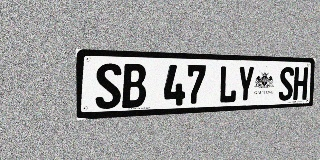4: (164, 64, 186, 106)
7: (185, 65, 206, 105)
B: (122, 64, 146, 108)
H: (293, 67, 308, 100)
L: (218, 66, 238, 104)
S: (95, 63, 121, 109), (278, 67, 294, 101)
Y: (237, 66, 255, 103)
